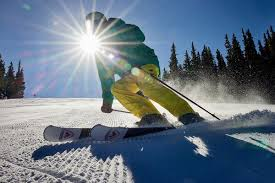skis: (41, 123, 184, 146)
